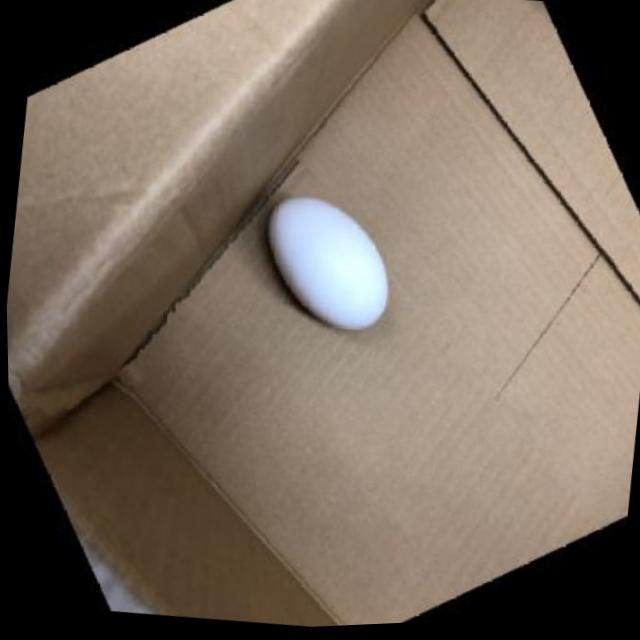egg: (247, 189, 403, 345)
